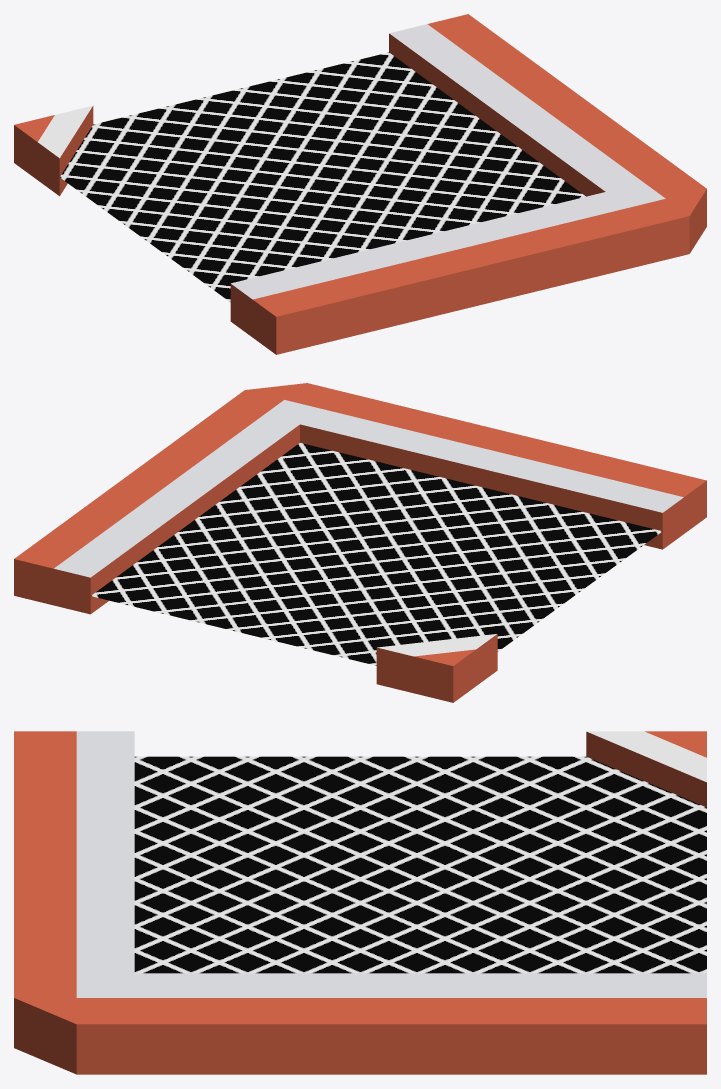
File: metalTileConnectCornerInner.fbx
The picture shows the model from 3 angles, top to bottom: view 1: azimuth 30°, elevation 25°; view 2: azimuth 150°, elevation 25°; view 3: azimuth 270°, elevation 25°; orthographic projection. The views are drawn at different scales.
Parts seen in each view (by area): view 1: metalTileConnectCornerInner; view 2: metalTileConnectCornerInner; view 3: metalTileConnectCornerInner.
Part boxes in pixels (bbox=[...]): metalTileConnectCornerInner: bbox=[14, 14, 706, 354]; metalTileConnectCornerInner: bbox=[14, 383, 706, 702]; metalTileConnectCornerInner: bbox=[14, 731, 706, 1074].
Bounding box in the file's own units: 10 × 0.8 × 10.
